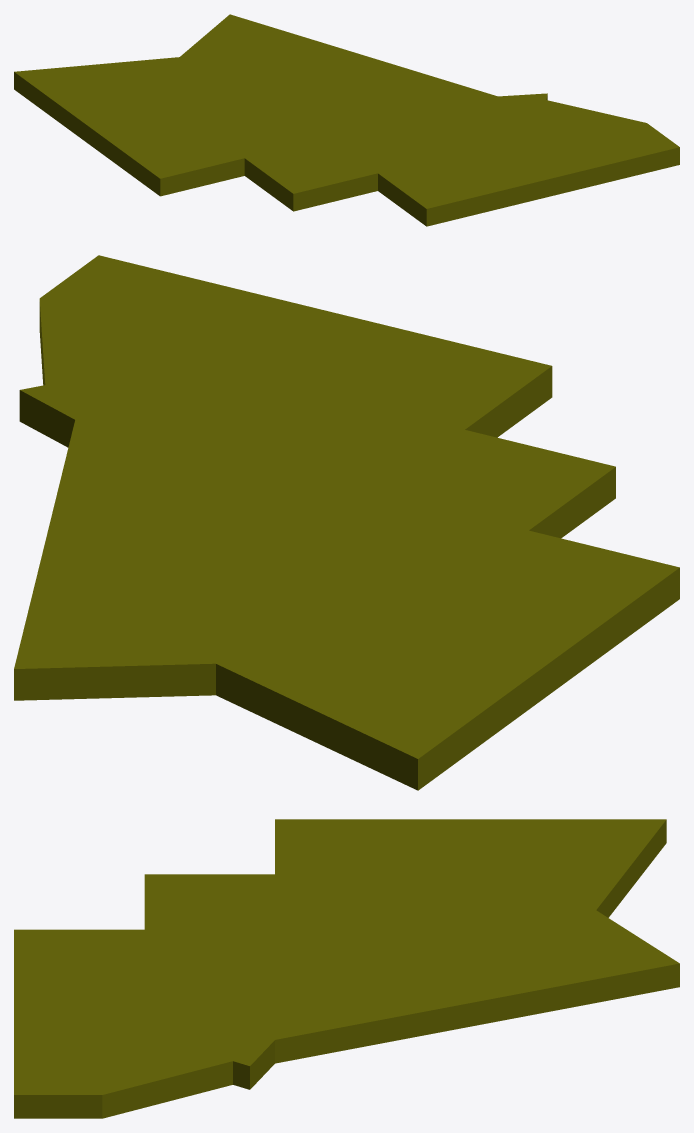
File: x_0_boloto_10_1_rmstrd.fbx
3 views of the same model, one above another, from view 1: azimuth 30°, elevation 25°; view 2: azimuth 150°, elevation 25°; view 3: azimuth 270°, elevation 25° (orthographic). The views are drawn at different scales.
Parts seen in each view (by area): view 1: x_0_boloto_10_1_rmstrd1; view 2: x_0_boloto_10_1_rmstrd1; view 3: x_0_boloto_10_1_rmstrd1.
Boxes of the visible parts, bbox=[...] form: x_0_boloto_10_1_rmstrd1: bbox=[14, 14, 679, 226]; x_0_boloto_10_1_rmstrd1: bbox=[14, 255, 679, 790]; x_0_boloto_10_1_rmstrd1: bbox=[14, 819, 679, 1118].
Size of the model in its own units: 5 by 0.2 by 5.1.
